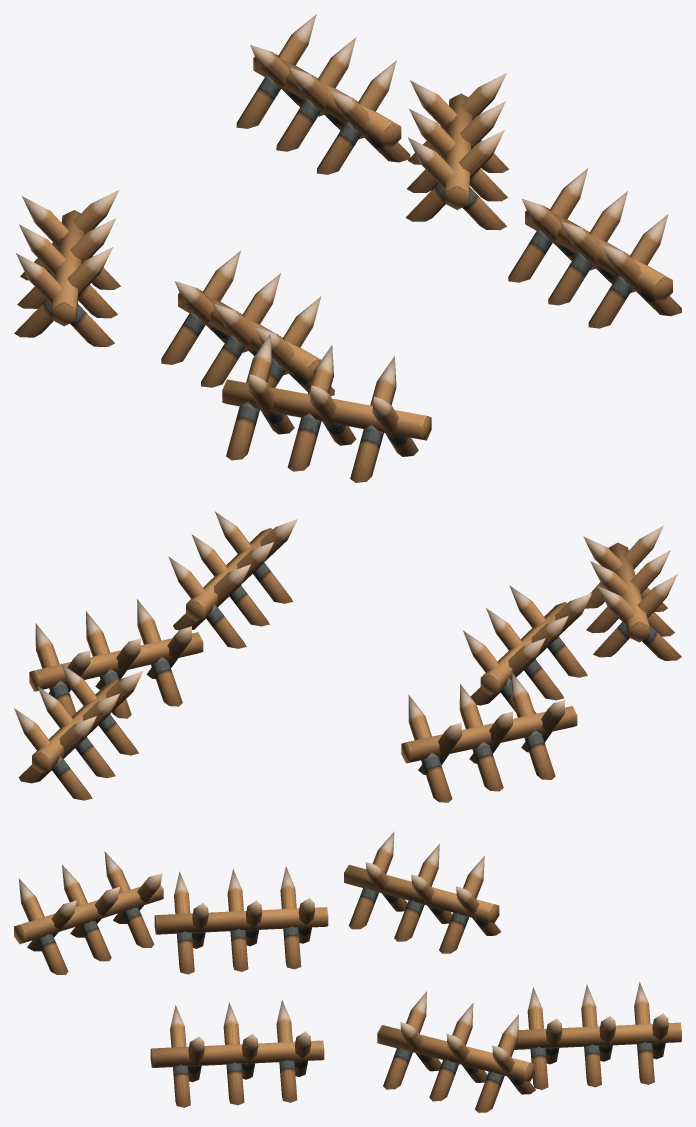
File: area_05_12.fbx
3 views of the same model, one above another, from view 1: azimuth 30°, elevation 25°; view 2: azimuth 150°, elevation 25°; view 3: azimuth 270°, elevation 25° (orthographic). The views are drawn at different scales.
Visible parts, largest first — view 1: area_05_12; view 2: area_05_12; view 3: area_05_12.
Part boxes in pixels (<box>): area_05_12: <box>14,14,681,482</box>; area_05_12: <box>14,511,681,802</box>; area_05_12: <box>14,831,681,1112</box>.
Bounding box in the file's own units: 15.44 × 2.36 × 20.36.
